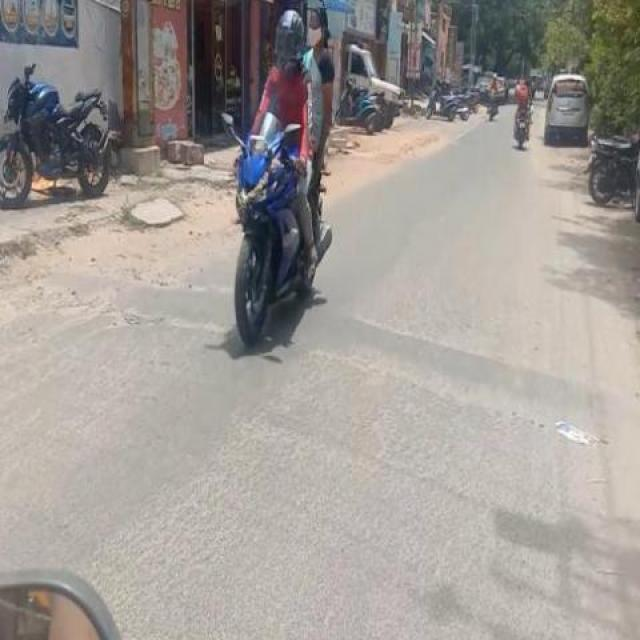Unmarked Bump: (270, 307, 640, 444), (35, 268, 234, 328)
